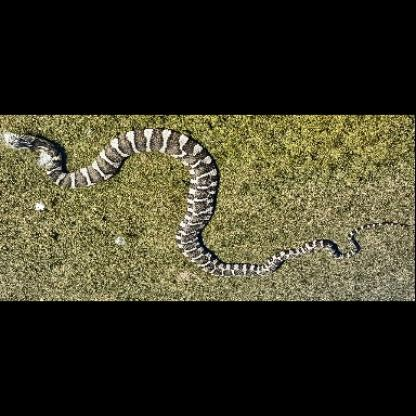Snake: (5, 119, 392, 281)
